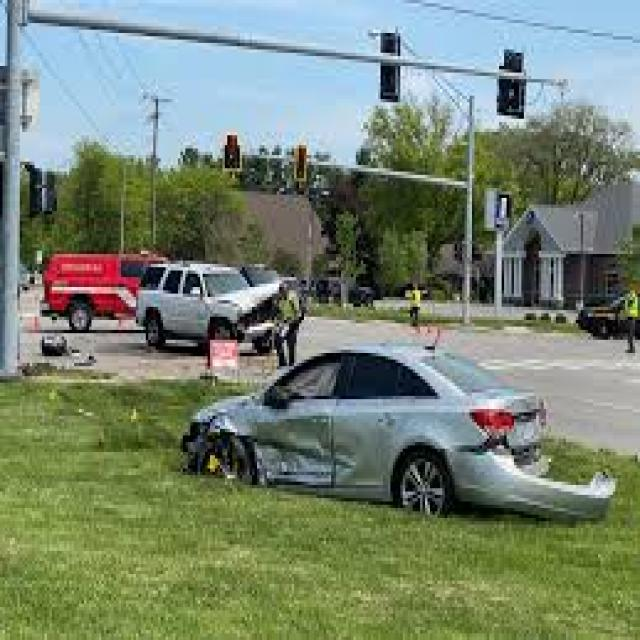accident: (168, 342, 567, 541)
